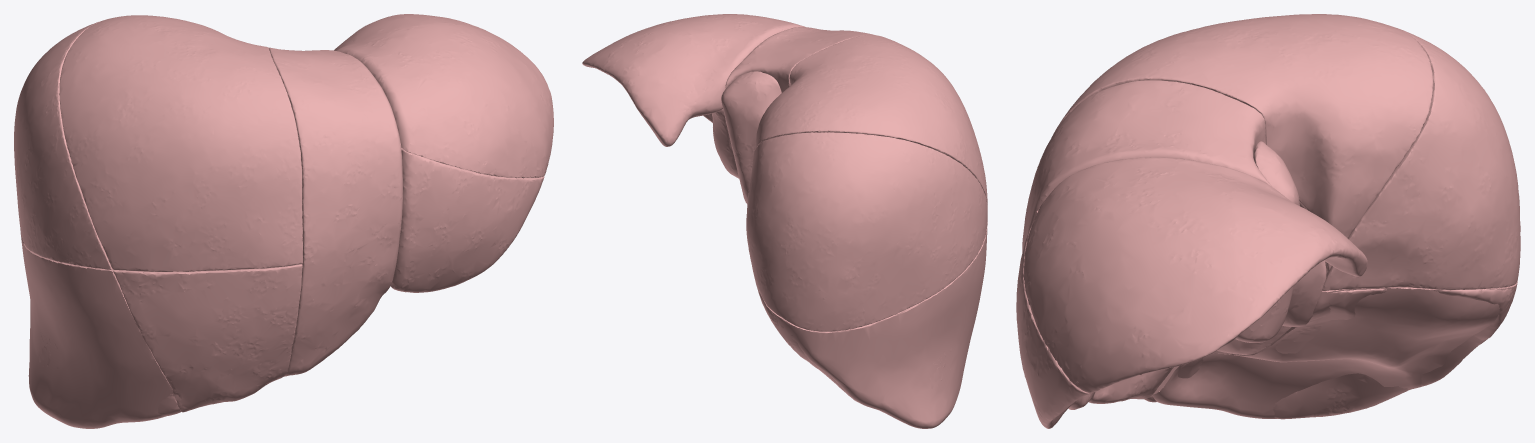
The model's file is digestive-liver.v1.glb.
The picture shows the model from 3 angles, left to right: view 1: azimuth 30°, elevation 25°; view 2: azimuth 150°, elevation 25°; view 3: azimuth 270°, elevation 25°; orthographic projection. The views are drawn at different scales.
Visible parts, largest first — view 1: hepatovenous_segment_viii, hepatovenous_segment_iv, hepatovenous_segment_ii, hepatovenous_segment_v, hepatovenous_segment_vii, hepatovenous_segment_iii, hepatovenous_segment_vi; view 2: hepatovenous_segment_viii, hepatovenous_segment_vii, hepatovenous_segment_ii, caudate_lobe_of_liver, hepatovenous_segment_iv, hepatovenous_segment_iii, hepatovenous_segment_vi; view 3: hepatovenous_segment_viii, hepatovenous_segment_ii, hepatovenous_segment_vii, hepatovenous_segment_iv, hepatovenous_segment_vi, hepatovenous_segment_iii, caudate_lobe_of_liver, hepatovenous_segment_v.
Part boxes in pixels (<box>): hepatovenous_segment_viii: <box>14,15,302,271</box>; hepatovenous_segment_iv: <box>268,47,402,376</box>; hepatovenous_segment_ii: <box>334,14,553,178</box>; hepatovenous_segment_v: <box>113,264,302,412</box>; hepatovenous_segment_vii: <box>20,233,174,428</box>; hepatovenous_segment_iii: <box>390,148,544,292</box>; hepatovenous_segment_vi: <box>37,332,181,416</box>; hepatovenous_segment_viii: <box>746,35,987,331</box>; hepatovenous_segment_vii: <box>763,222,987,428</box>; hepatovenous_segment_ii: <box>582,14,804,146</box>; caudate_lobe_of_liver: <box>721,71,781,203</box>; hepatovenous_segment_iv: <box>725,27,875,92</box>; hepatovenous_segment_iii: <box>703,109,738,178</box>; hepatovenous_segment_vi: <box>756,285,953,401</box>; hepatovenous_segment_viii: <box>1051,14,1520,290</box>; hepatovenous_segment_ii: <box>1024,157,1367,393</box>; hepatovenous_segment_vii: <box>1151,281,1517,418</box>; hepatovenous_segment_iv: <box>1022,80,1271,409</box>; hepatovenous_segment_vi: <box>1144,287,1515,419</box>; hepatovenous_segment_iii: <box>1016,208,1236,428</box>; caudate_lobe_of_liver: <box>1235,141,1326,342</box>; hepatovenous_segment_v: <box>1088,326,1291,403</box>.
Bounding box in the file's own units: 0.2094 × 0.1552 × 0.1591.
